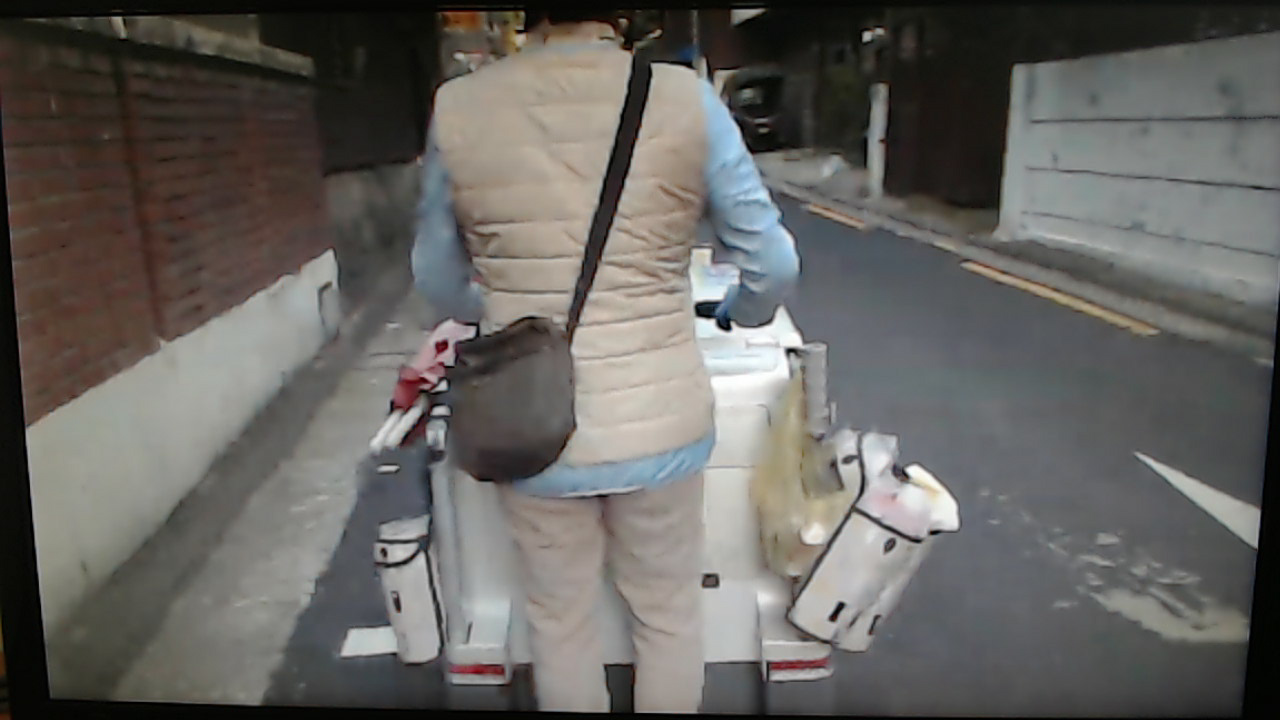Yakurut: (394, 7, 829, 710)
